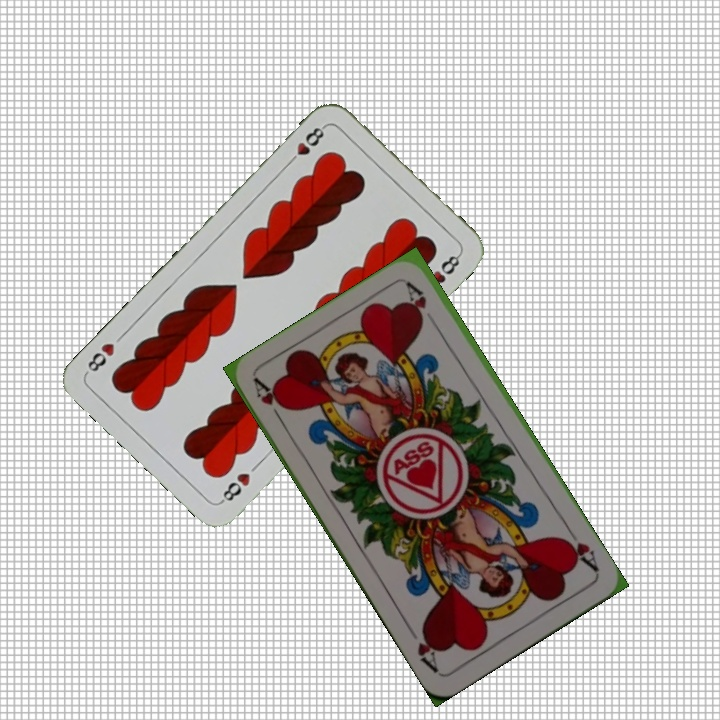H8: (283, 121, 329, 168), (216, 469, 253, 506)
HA: (558, 523, 602, 575), (250, 375, 289, 429)
